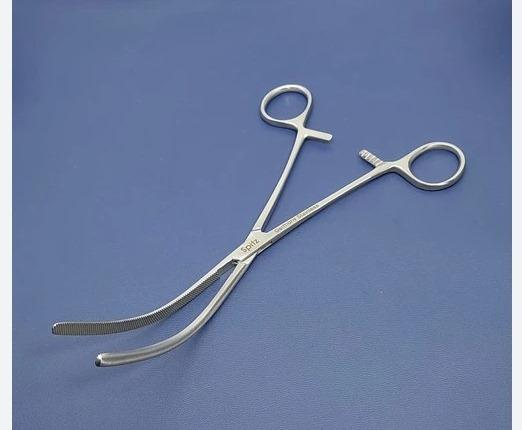Doyel Instestinal Forceps: (48, 76, 467, 369)
